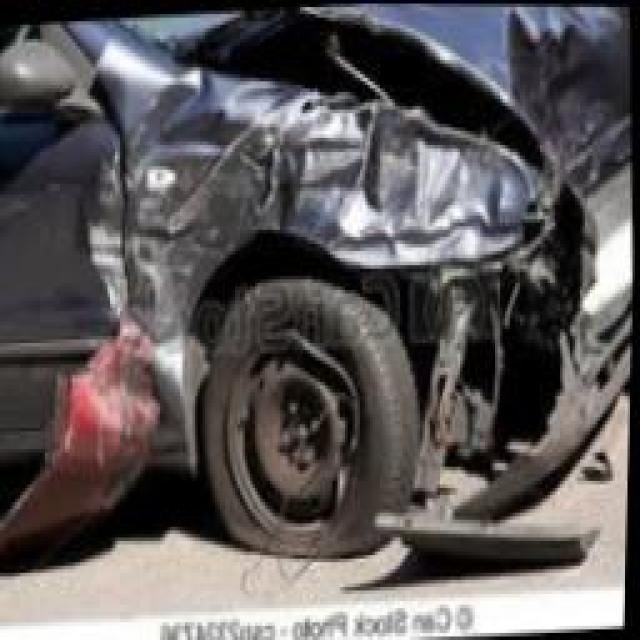Bonnet: (164, 3, 630, 159)
Bumper: (397, 151, 634, 523)
Fender: (119, 65, 355, 445)
Light: (334, 126, 539, 260)
